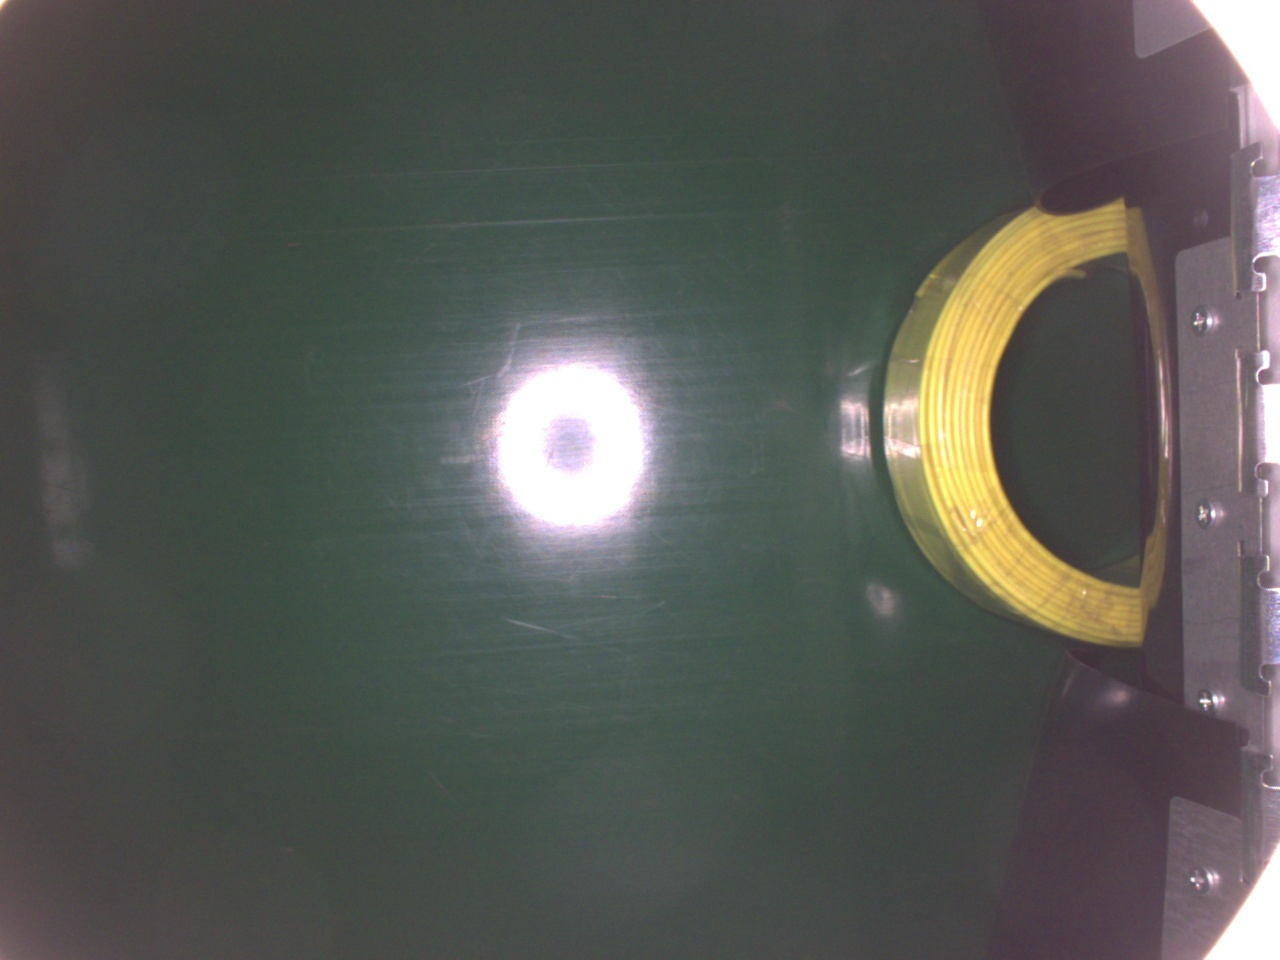yellow: (880, 197, 1170, 649)
